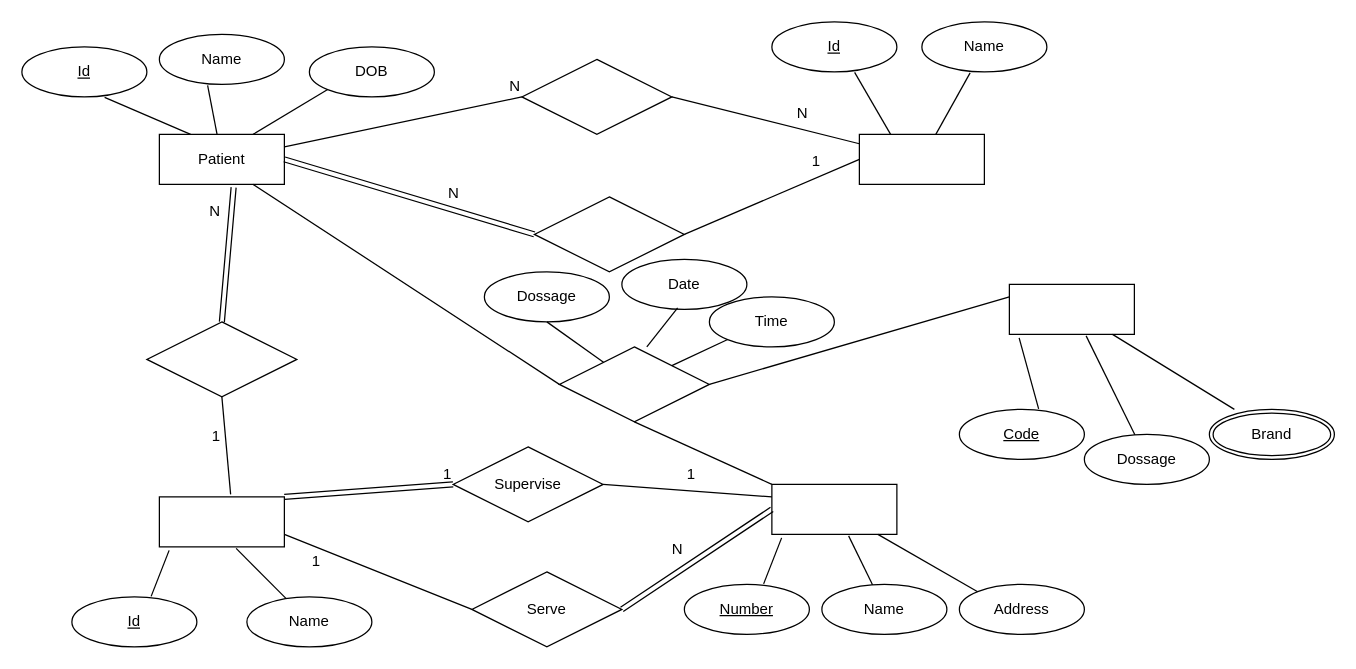
The diagram is 1356 pixels wide and 669 high, and some of its shapes have lost their labels. Each missing label, with the box of its shape:
Assigned: (533, 196, 684, 272)
Consultant: (858, 133, 984, 184)
Drug: (1008, 283, 1134, 334)
Examine: (521, 58, 672, 134)
Gives: (558, 346, 709, 422)
Hosts: (146, 321, 297, 397)
Nurse: (771, 483, 897, 534)
Ward: (158, 496, 284, 547)
